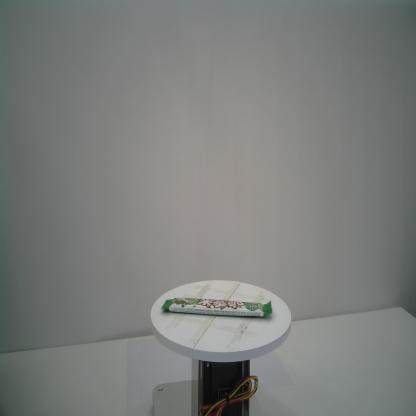Chocolate: (159, 295, 274, 321)
